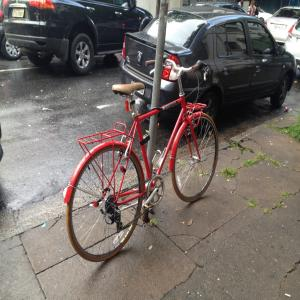Vehicle-registration-plate: (132, 81, 146, 97), (13, 9, 26, 18)
